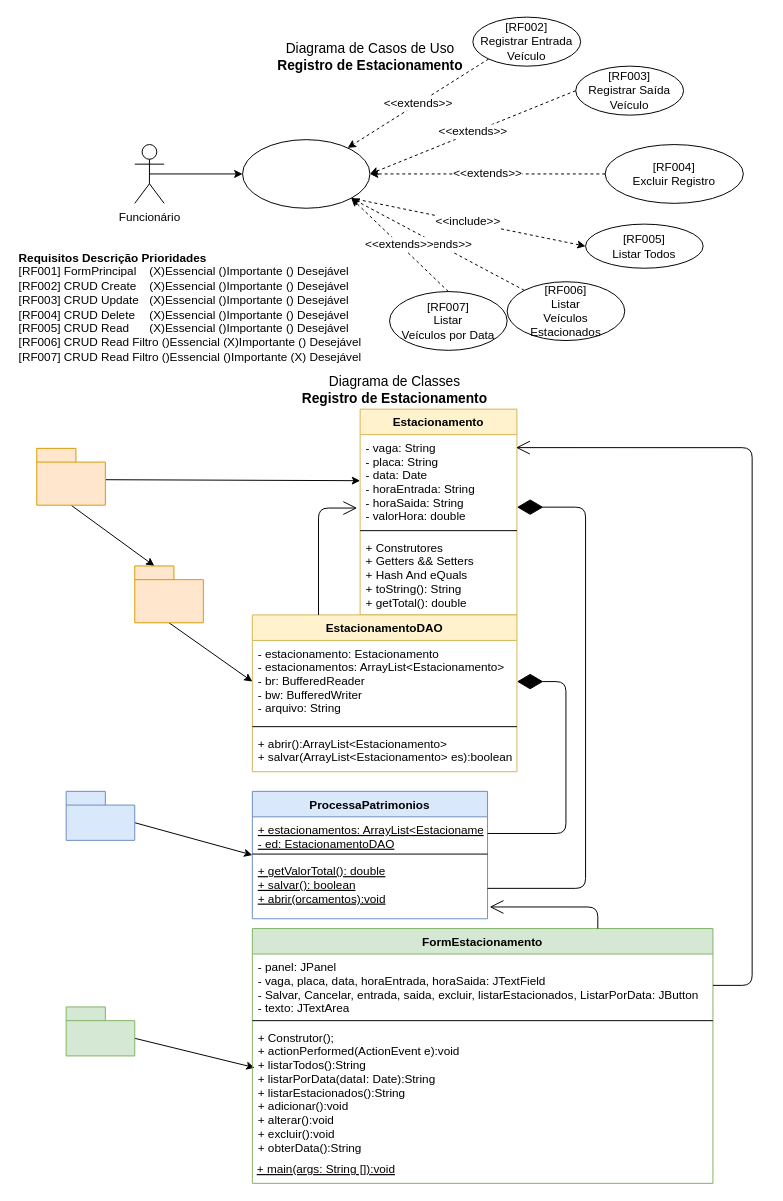
The diagram is 783 pixels wide and 1201 high, and some of its shapes have lost their labels. Each missing label, with the centre of its shape:
"[RF001] Registrar Estacionamentos" belongs at [306,173].
"controllers" belongs at [100,815].
"dao" belongs at [168,594].
"models" belongs at [70,476].
"viewers" belongs at [100,1031].
